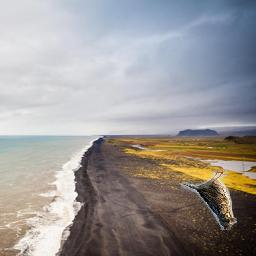Sparrow: (181, 170, 237, 230)
